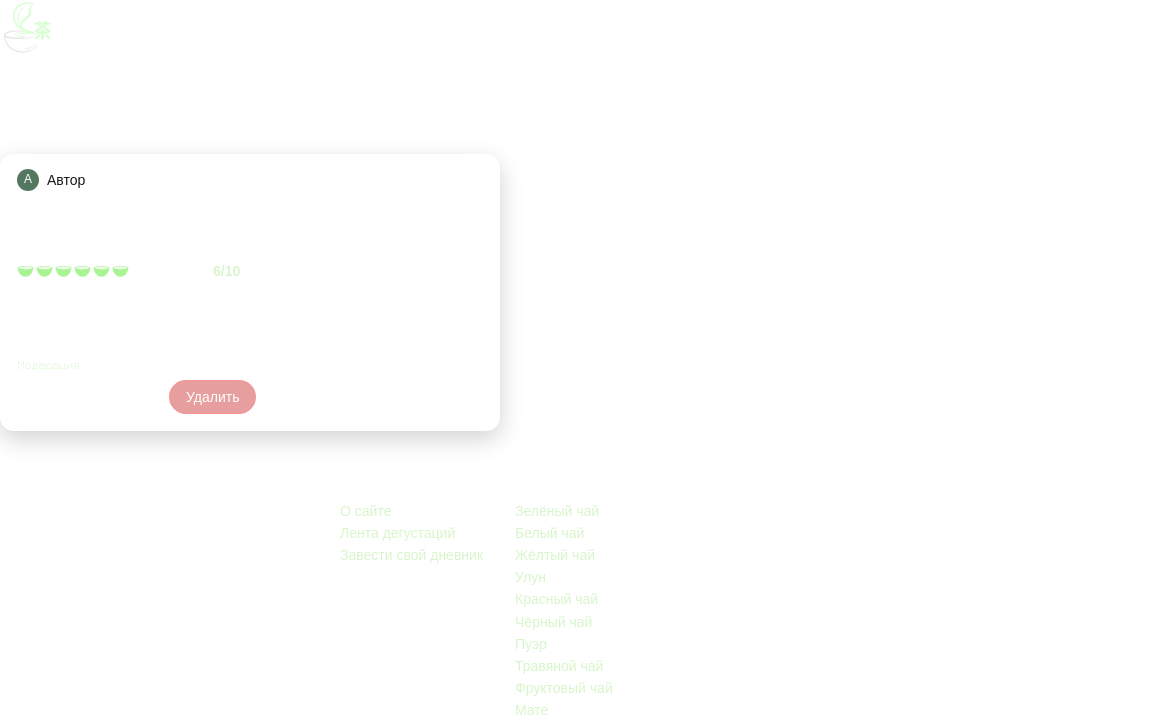
Test case: «Нет» closes the window without touching anything
Click the button "Удалить" at [213, 397], box 169,380 -> 256,414
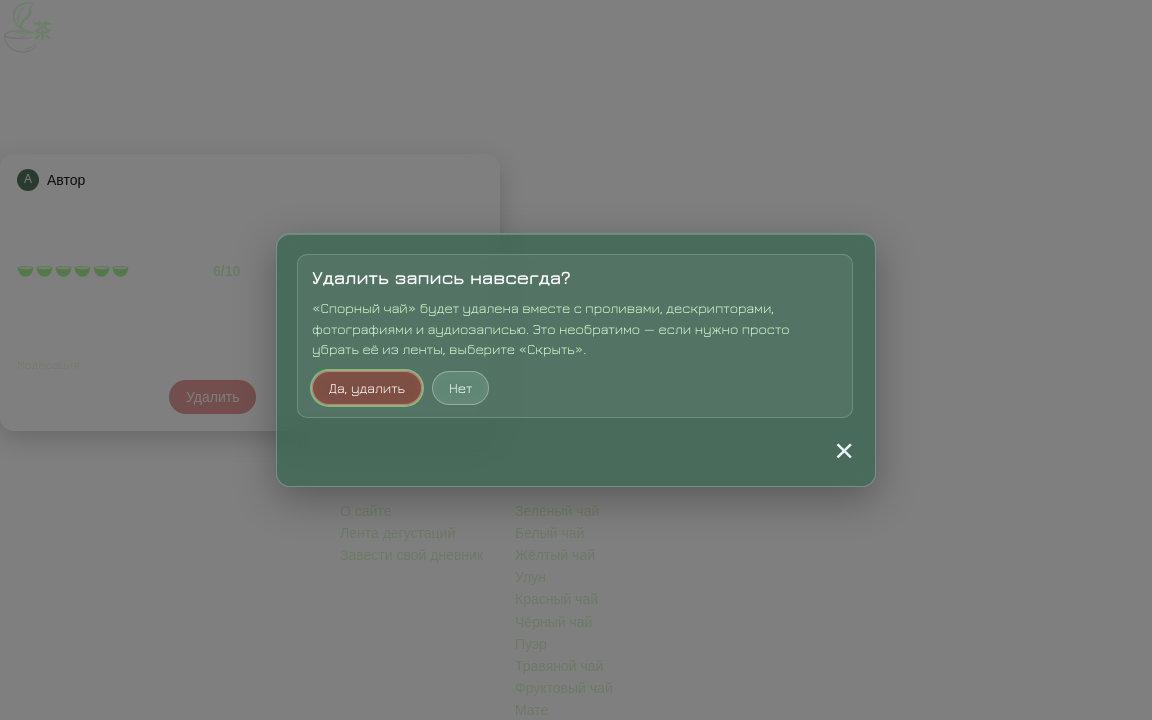
expect the heading "Удалить запись навсегда?" is shown: met, box 312,266 -> 571,288
Click the button "Нет" at [461, 388], box 432,371 -> 489,405
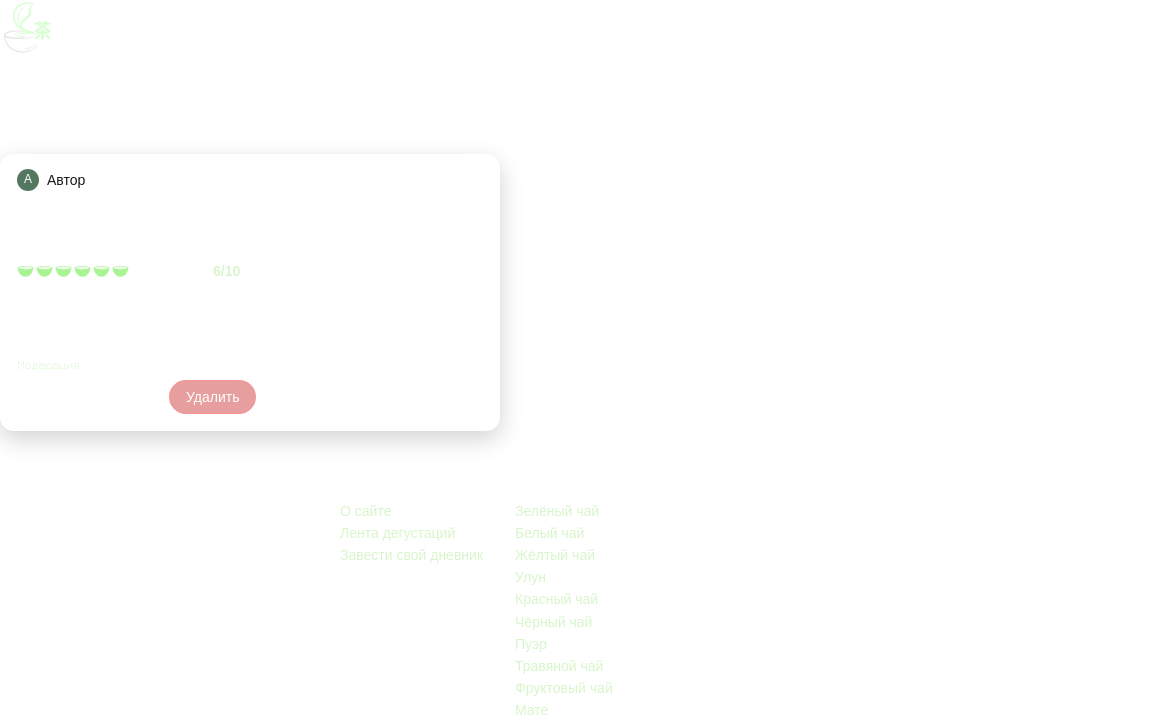
expect the heading "Удалить запись навсегда?" is gone: met
